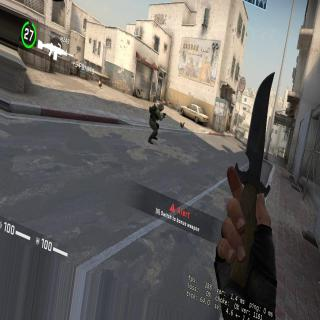CT-Body: (146, 98, 167, 141)
CT-Head: (156, 102, 165, 111)
